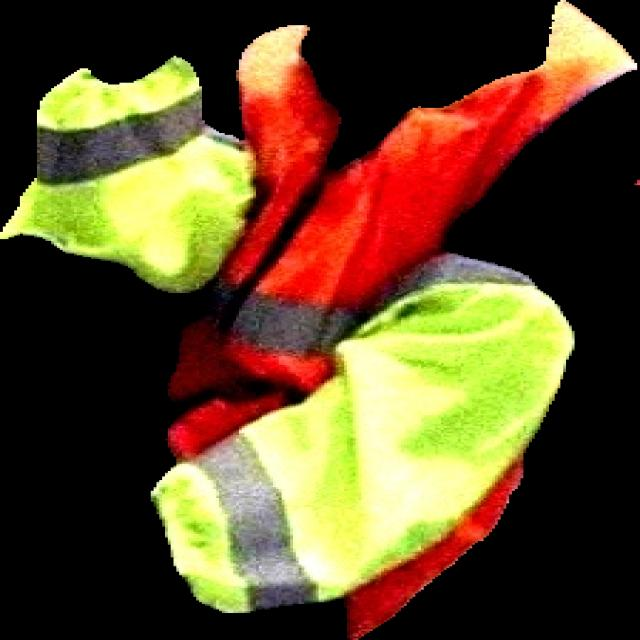Colete: (0, 0, 637, 639)
